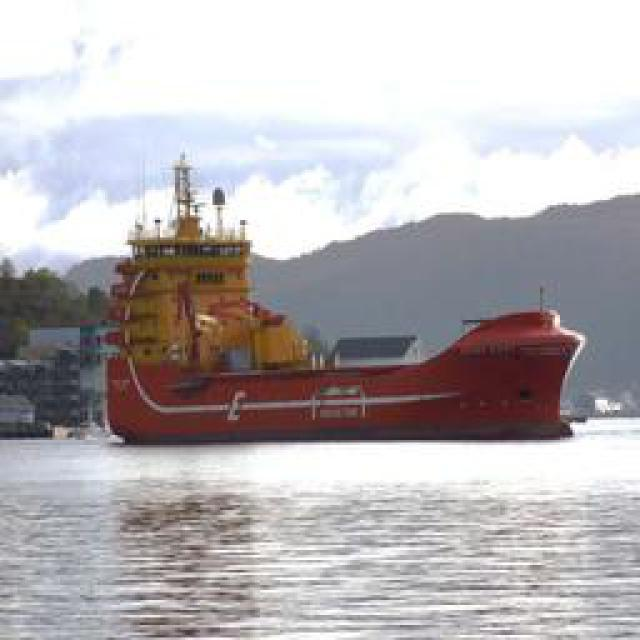Ship: (95, 281, 583, 444)
